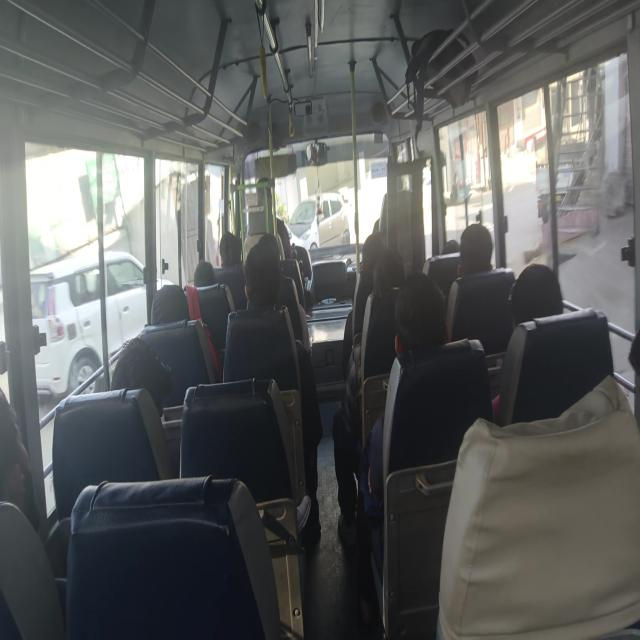person: (392, 270, 459, 362), (1, 384, 42, 524), (115, 328, 171, 408), (508, 260, 567, 328), (151, 277, 190, 330), (243, 245, 279, 302), (462, 220, 498, 275), (374, 243, 407, 288), (252, 170, 284, 216), (381, 169, 415, 211), (218, 228, 245, 276), (362, 222, 392, 262), (192, 252, 217, 288), (439, 234, 465, 264), (258, 228, 282, 260)
